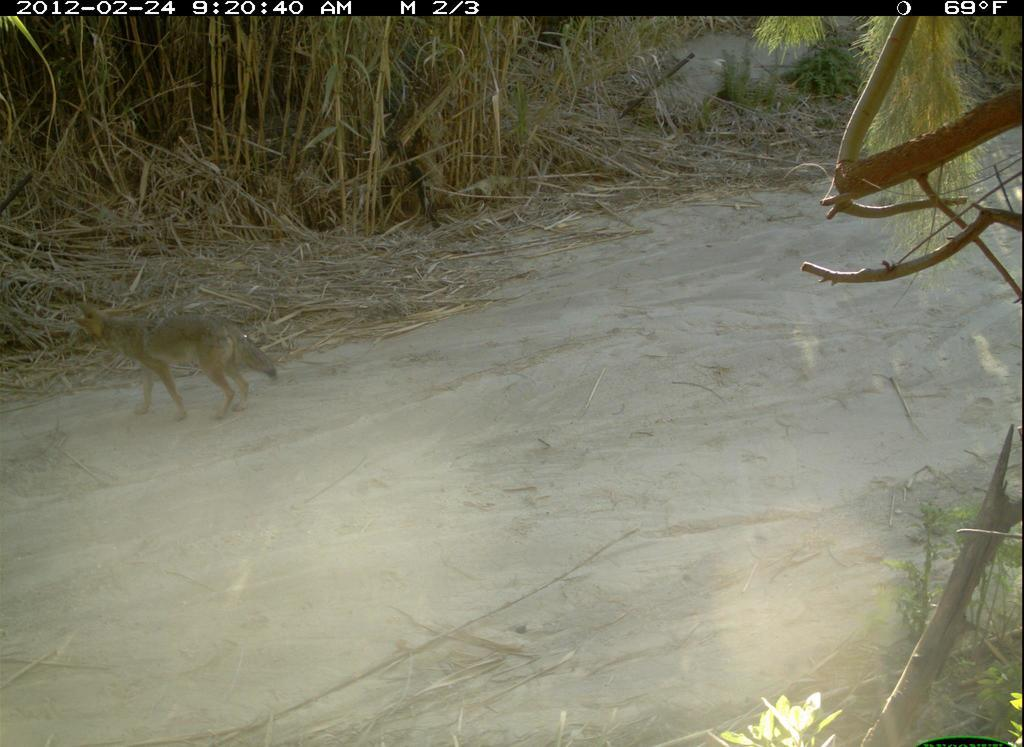coyote: (67, 294, 291, 434)
